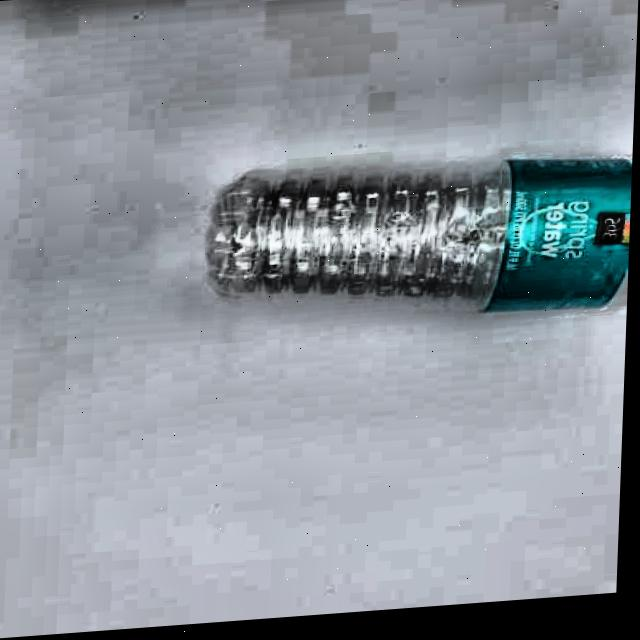plastic: (197, 137, 633, 345)
